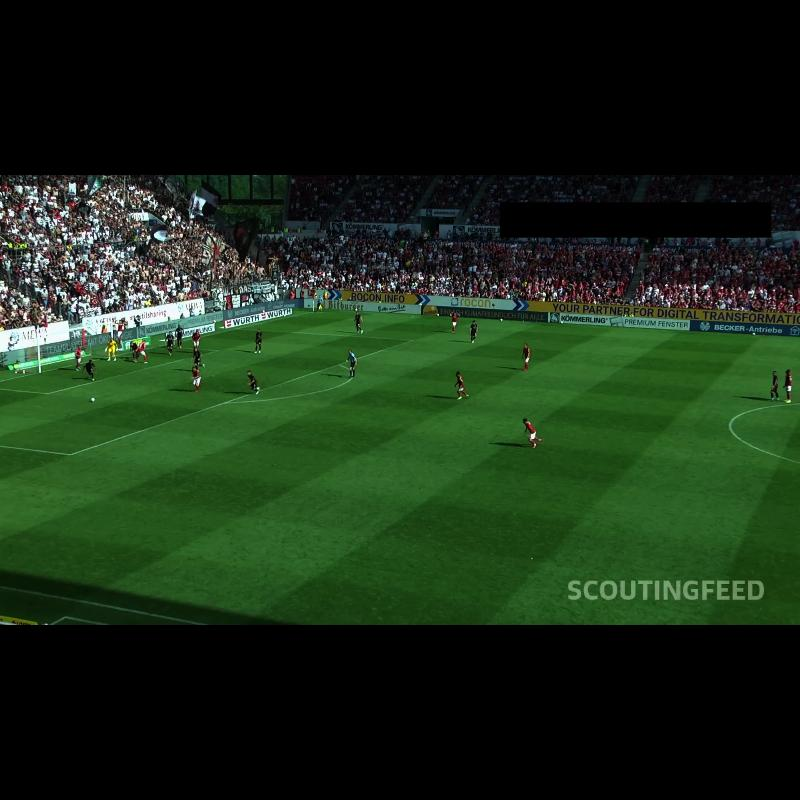cross_recipient_zone: (0, 328, 412, 454)
crossing_player_zone: (0, 446, 305, 600), (235, 311, 611, 351)
pitch: (0, 312, 800, 625)
